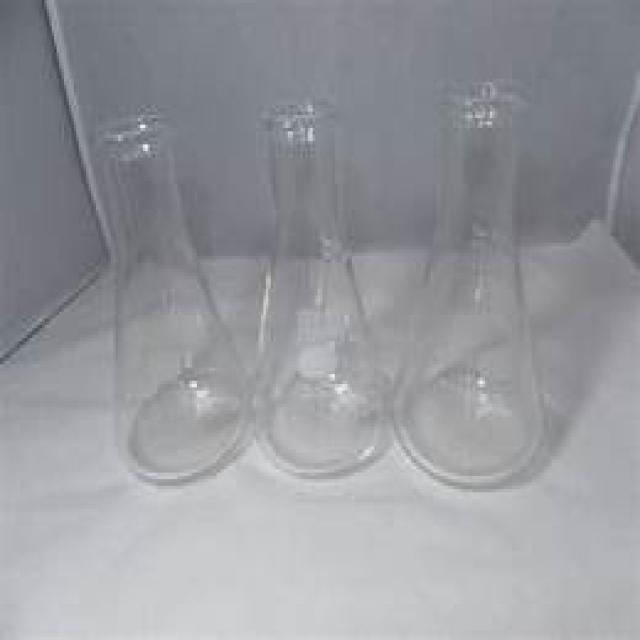Titrarion: (93, 100, 250, 497), (402, 99, 541, 488), (256, 89, 388, 485)
